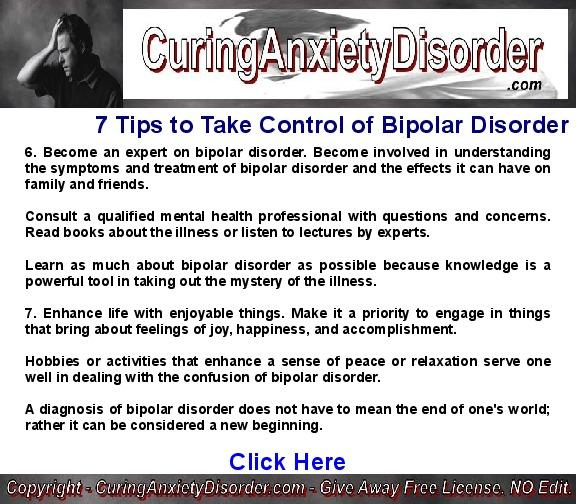paragraph: (3, 142, 576, 500)
subtitle: (89, 109, 576, 142)
title: (139, 15, 552, 99)
